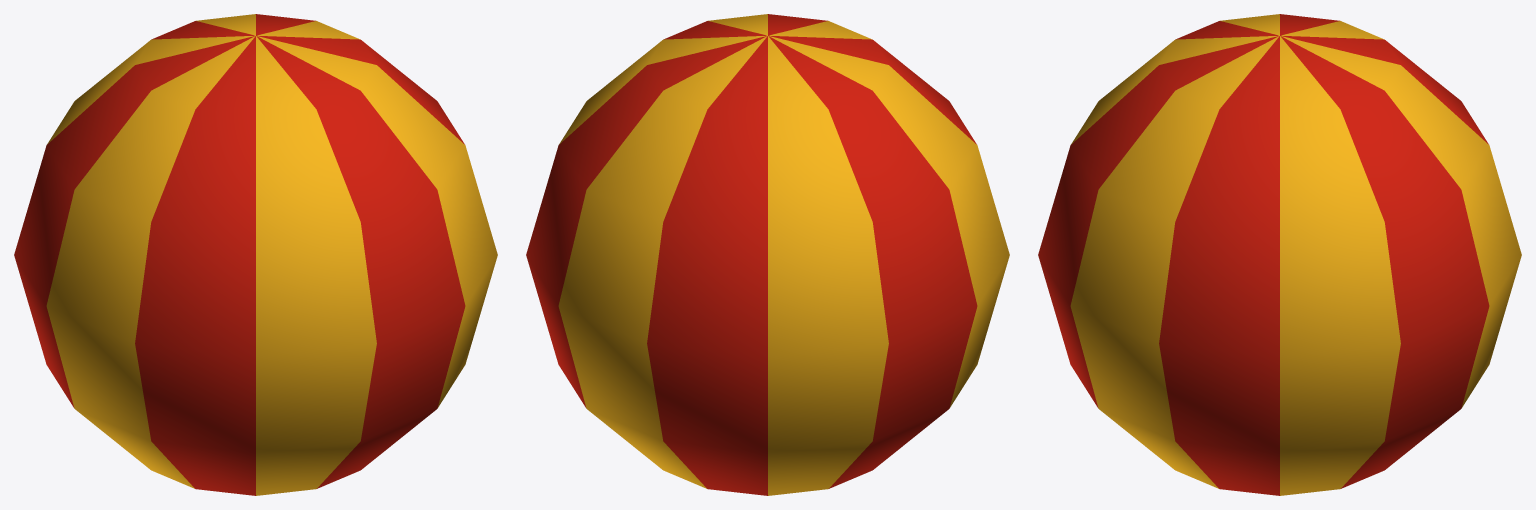
Rendered from carry_ball.glb.
3 views of the same model, side by side, from view 1: azimuth 30°, elevation 25°; view 2: azimuth 150°, elevation 25°; view 3: azimuth 270°, elevation 25° (orthographic).
Parts seen in each view (by area): view 1: carry_ball; view 2: carry_ball; view 3: carry_ball.
Boxes of the visible parts, bbox=[...] form: carry_ball: bbox=[14, 14, 497, 495]; carry_ball: bbox=[526, 14, 1009, 495]; carry_ball: bbox=[1038, 14, 1521, 495].
Size of the model in its own units: 0.05 by 0.05 by 0.05.
Materials: 2 (2 with a texture image).
